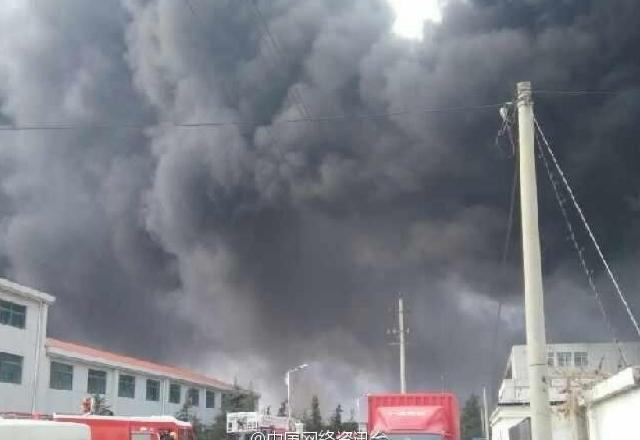smoke: (441, 4, 635, 346), (290, 5, 436, 355), (158, 4, 288, 356), (4, 6, 154, 287)
